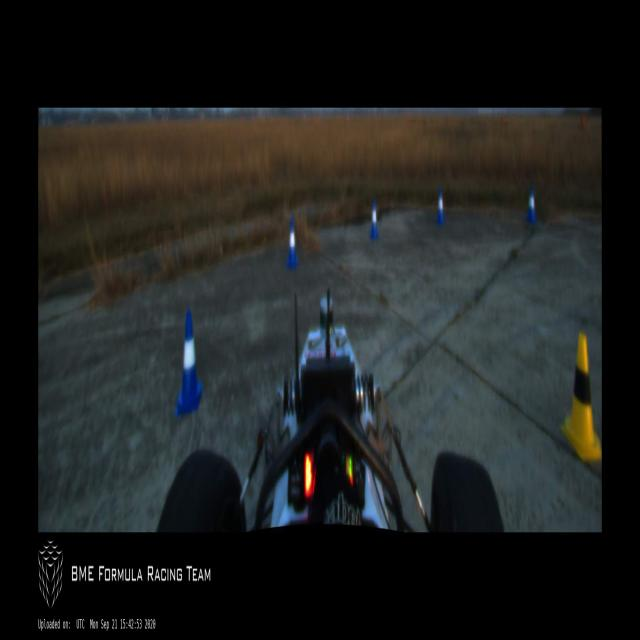blue_cone: (175, 310, 203, 416), (286, 217, 298, 271), (368, 198, 378, 238), (527, 183, 537, 223), (435, 186, 445, 225)
yellow_cone: (560, 332, 601, 462)
